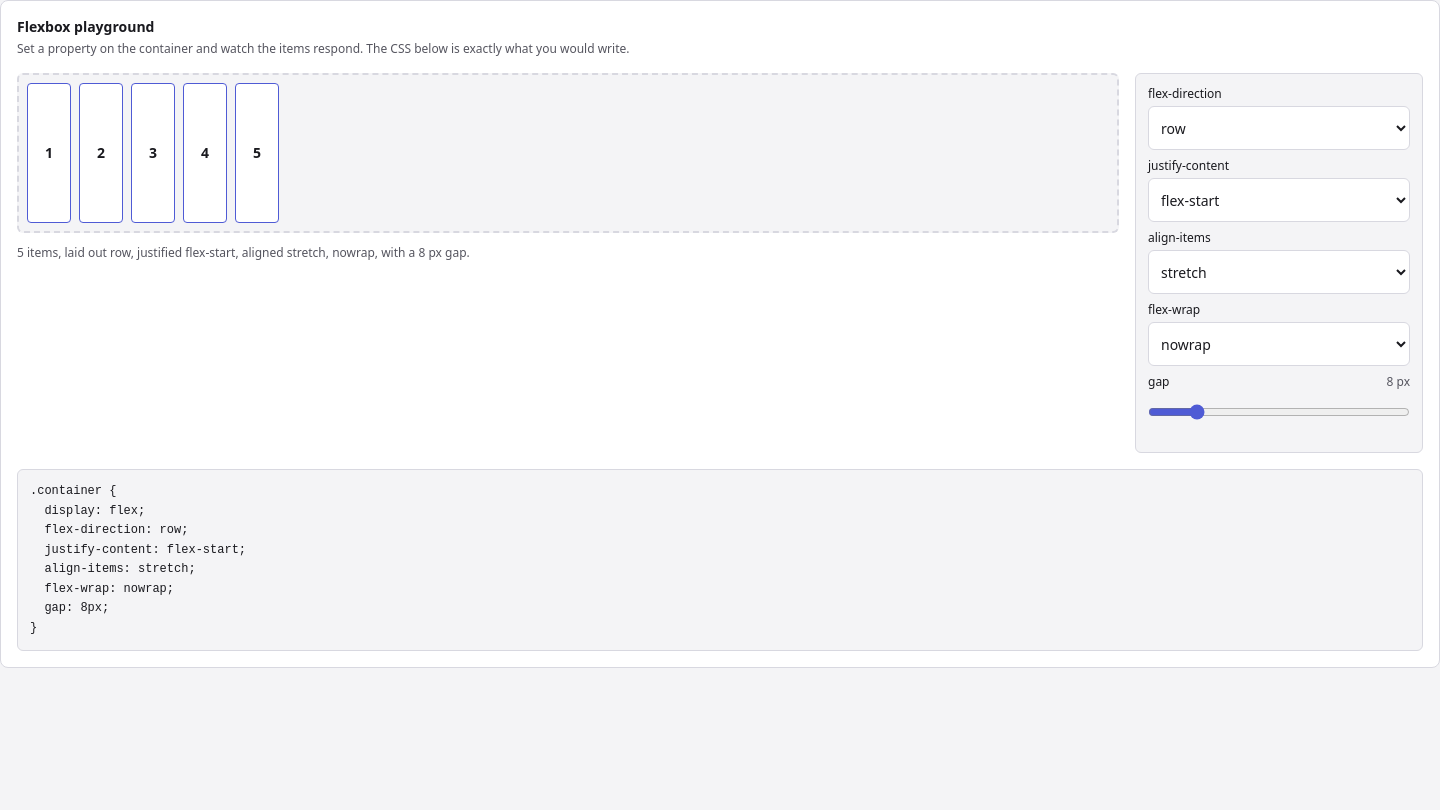
Test: FlexboxPlayground › changing a control changes both the container and the code
The image size is (1440, 810).
Select "space-between" in the dropdown labelled "justify-content" at coordinates (1279, 200), box [1148, 178, 1410, 222]
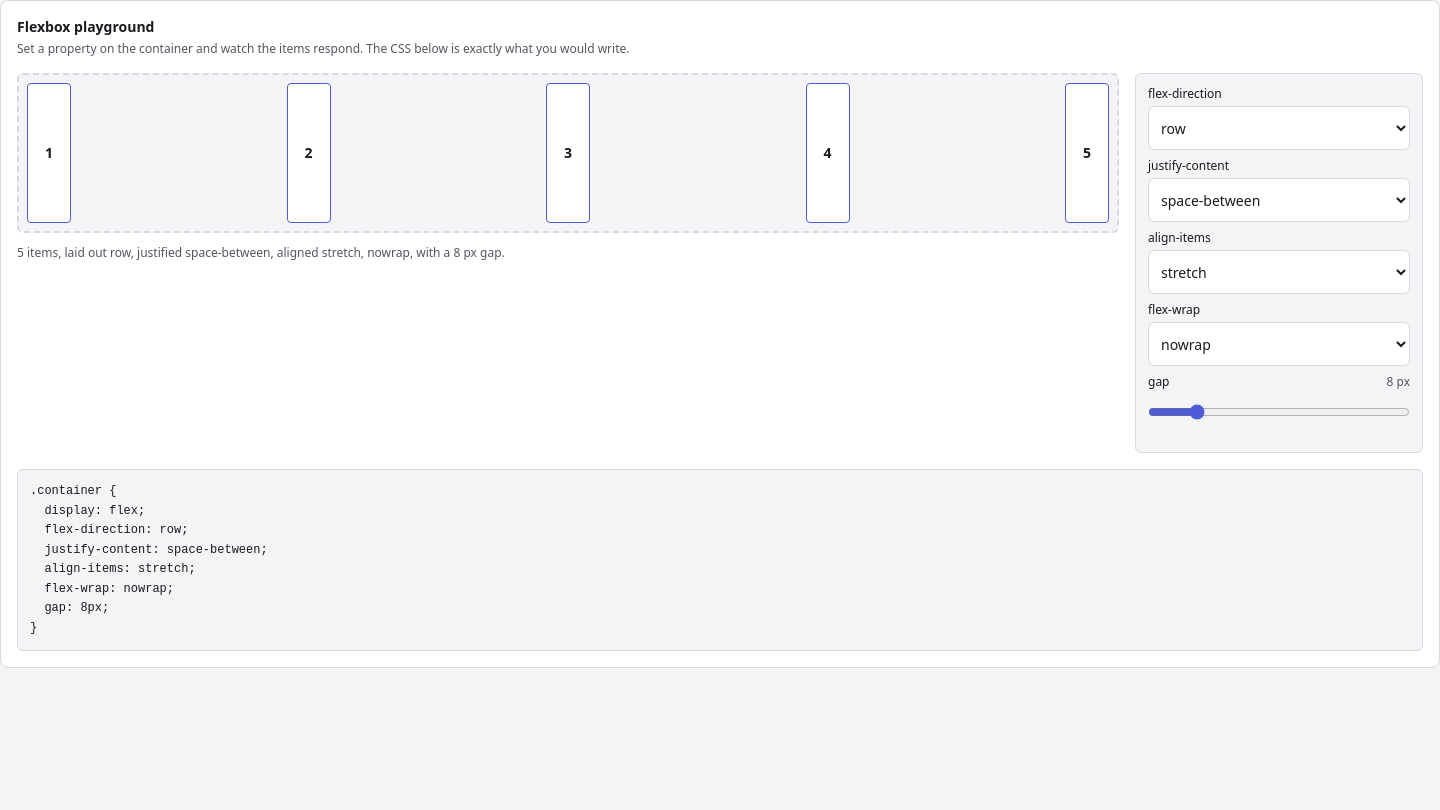
Check: the element with test id "flexbox-code" shows "justify-content: space-between;", box [30, 484, 268, 634]
